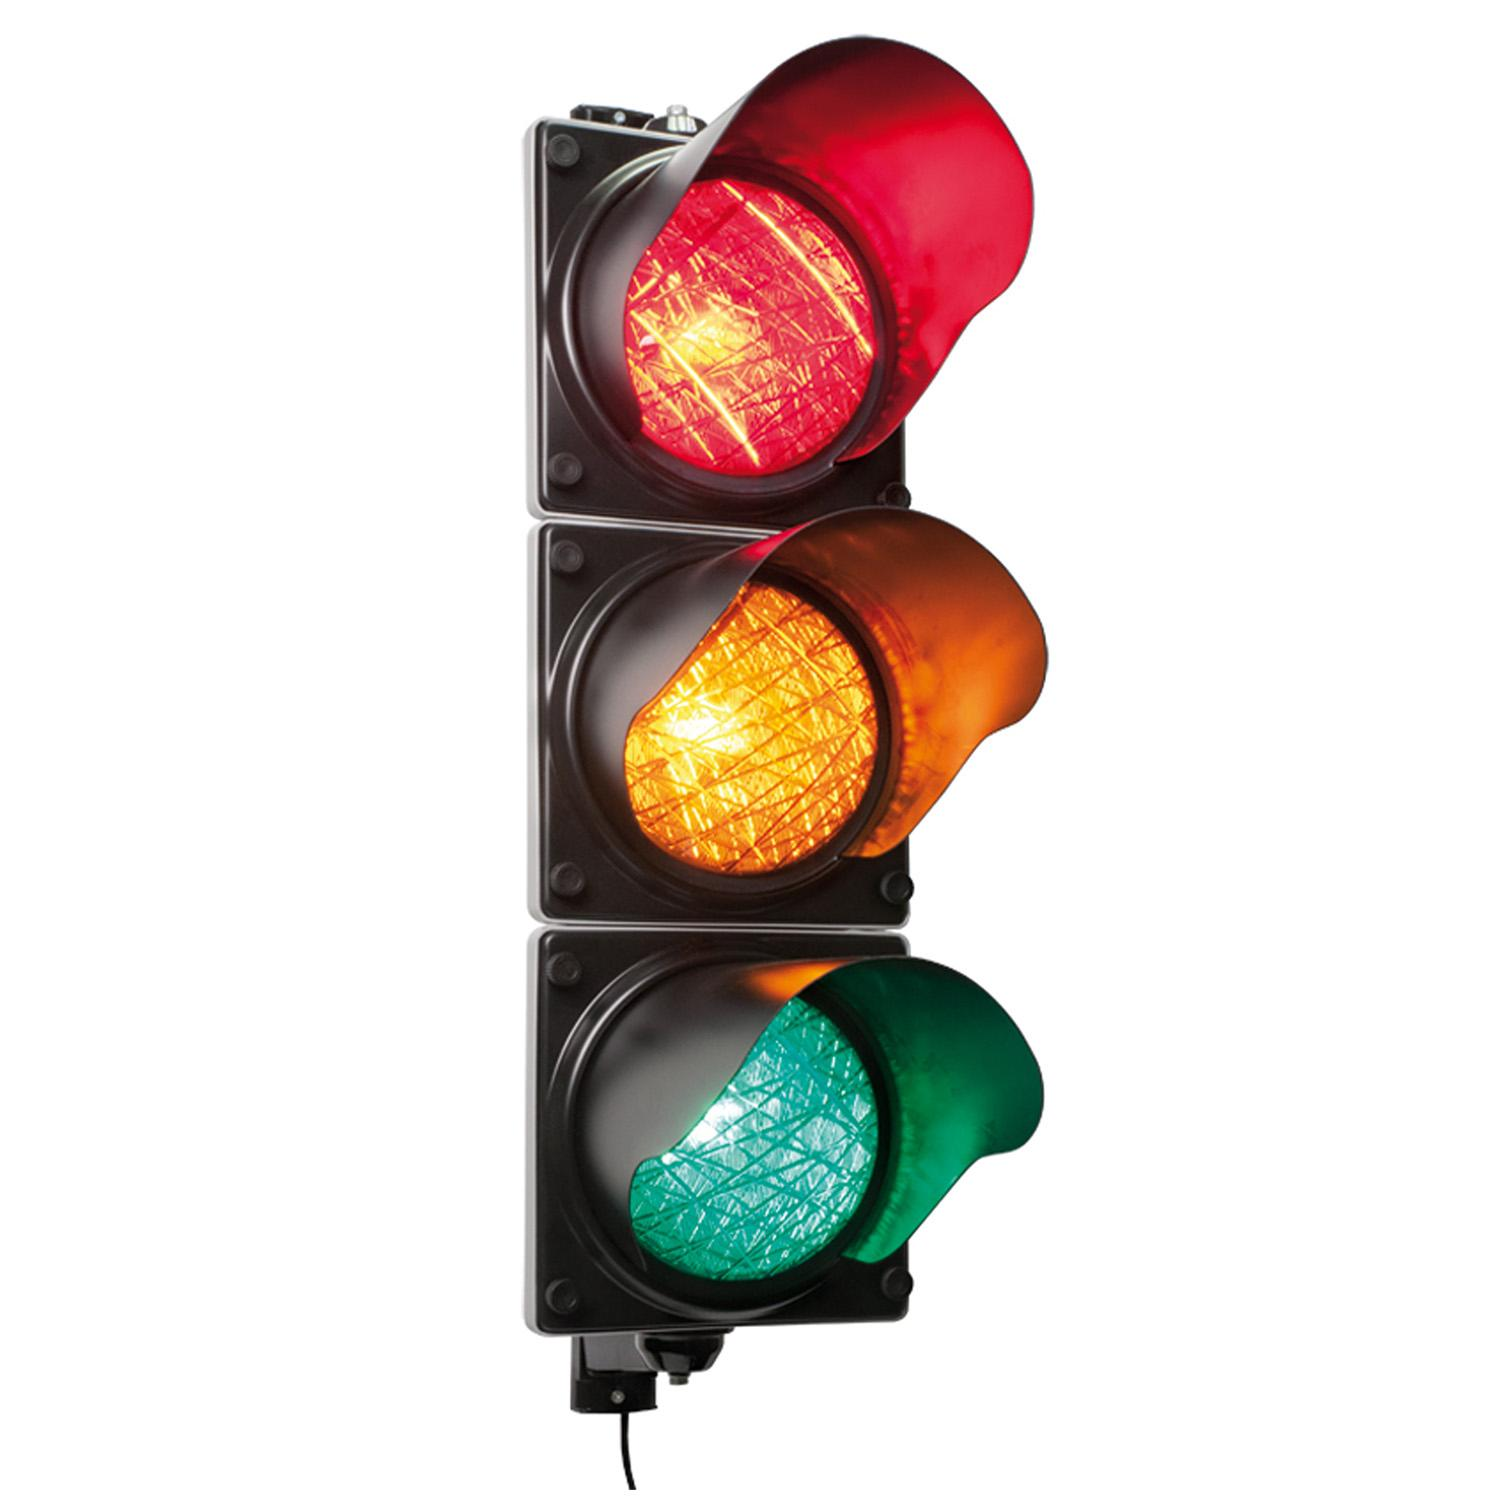traffic light: (396, 5, 1111, 1462)
